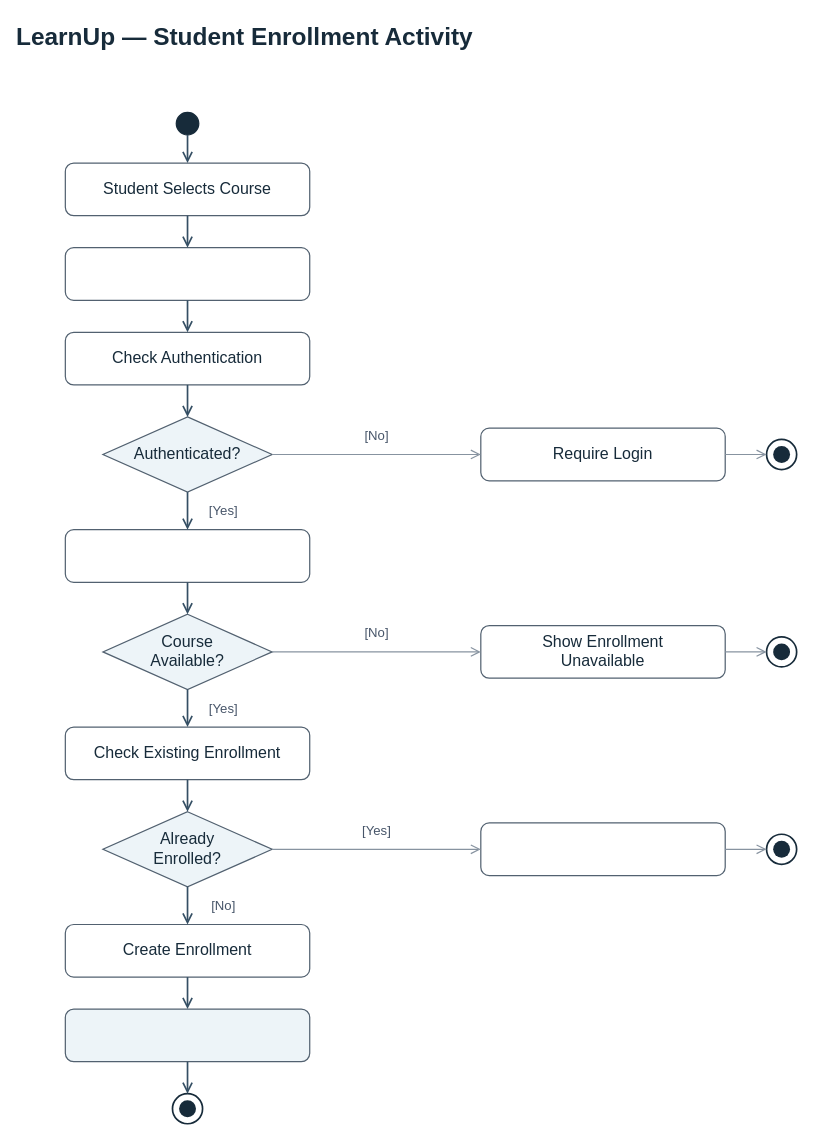
Image size: 820x1140. Some labels were removed from this diagram. The centre of each missing label's shape, as x and y in pixels:
Check Course Availability: (187,556)
Inform Student Already Enrolled: (602,849)
Show Enrollment Success: (187,1035)
Student Chooses Enroll: (187,274)
